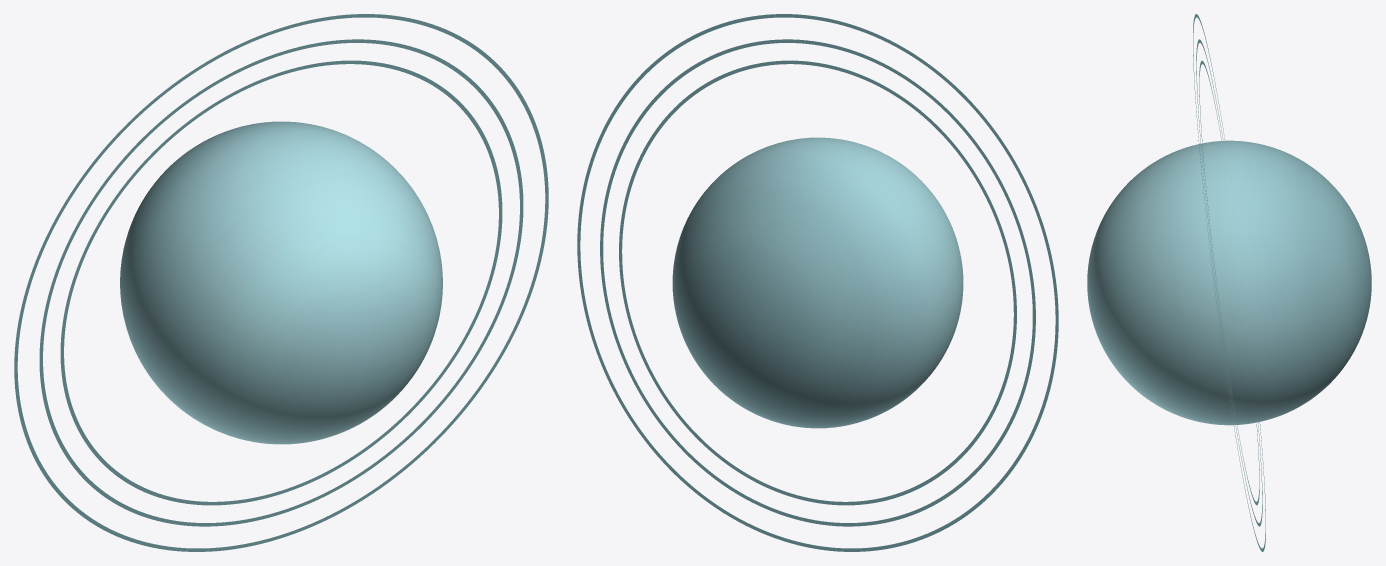
The model's file is Uranus.glb.
3 views of the same model, side by side, from view 1: azimuth 30°, elevation 25°; view 2: azimuth 150°, elevation 25°; view 3: azimuth 270°, elevation 25° (orthographic). The views are drawn at different scales.
Visible parts, largest first — view 1: Uranus; view 2: Uranus; view 3: Uranus.
Boxes of the visible parts, x1,y1,x2,y2 form: Uranus: [14, 14, 548, 551]; Uranus: [577, 14, 1058, 551]; Uranus: [1087, 14, 1371, 551].
Bounding box in the file's own units: 3.81 × 3.78 × 2.
2 materials, 1 textured.
